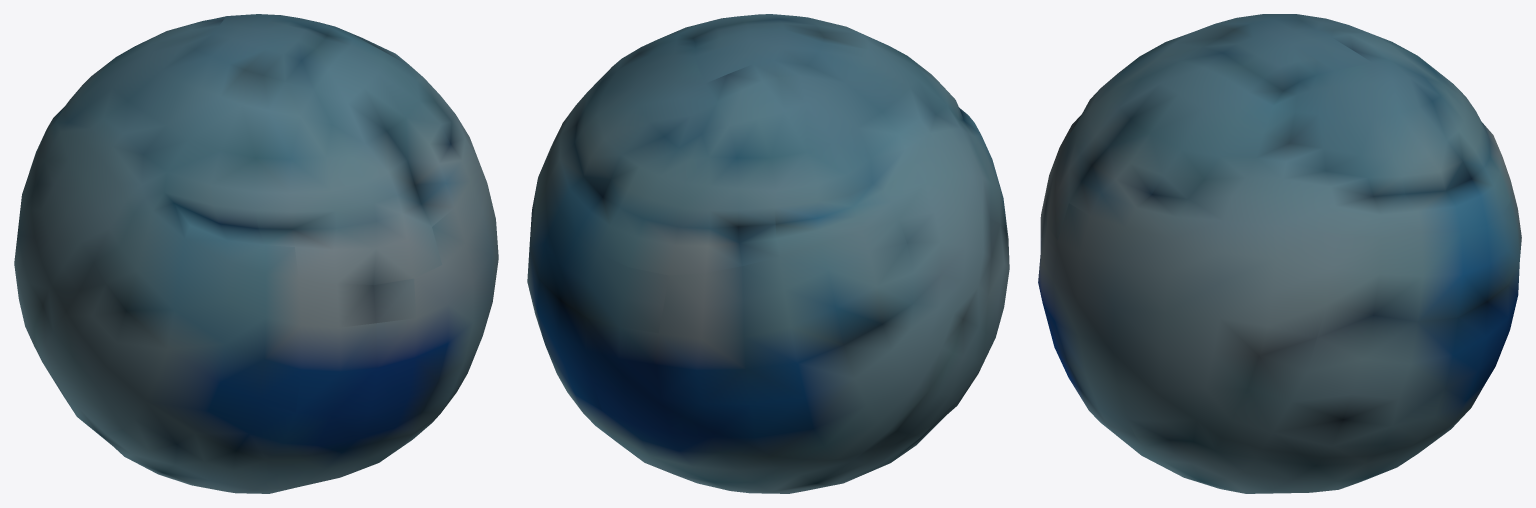
File: 10-6493481-vertex.glb
3 views of the same model, side by side, from view 1: azimuth 30°, elevation 25°; view 2: azimuth 150°, elevation 25°; view 3: azimuth 270°, elevation 25° (orthographic).
Parts seen in each view (by area): view 1: Retopo_neural_node_a015ddd4-1a65-47e0-90d8-13dcd7d25e20; view 2: Retopo_neural_node_a015ddd4-1a65-47e0-90d8-13dcd7d25e20; view 3: Retopo_neural_node_a015ddd4-1a65-47e0-90d8-13dcd7d25e20.
Part boxes in pixels (<box>): Retopo_neural_node_a015ddd4-1a65-47e0-90d8-13dcd7d25e20: <box>14,14,498,493</box>; Retopo_neural_node_a015ddd4-1a65-47e0-90d8-13dcd7d25e20: <box>527,14,1009,493</box>; Retopo_neural_node_a015ddd4-1a65-47e0-90d8-13dcd7d25e20: <box>1038,14,1521,493</box>.
Size of the model in its own units: 0.4858 by 0.4814 by 0.4877.
